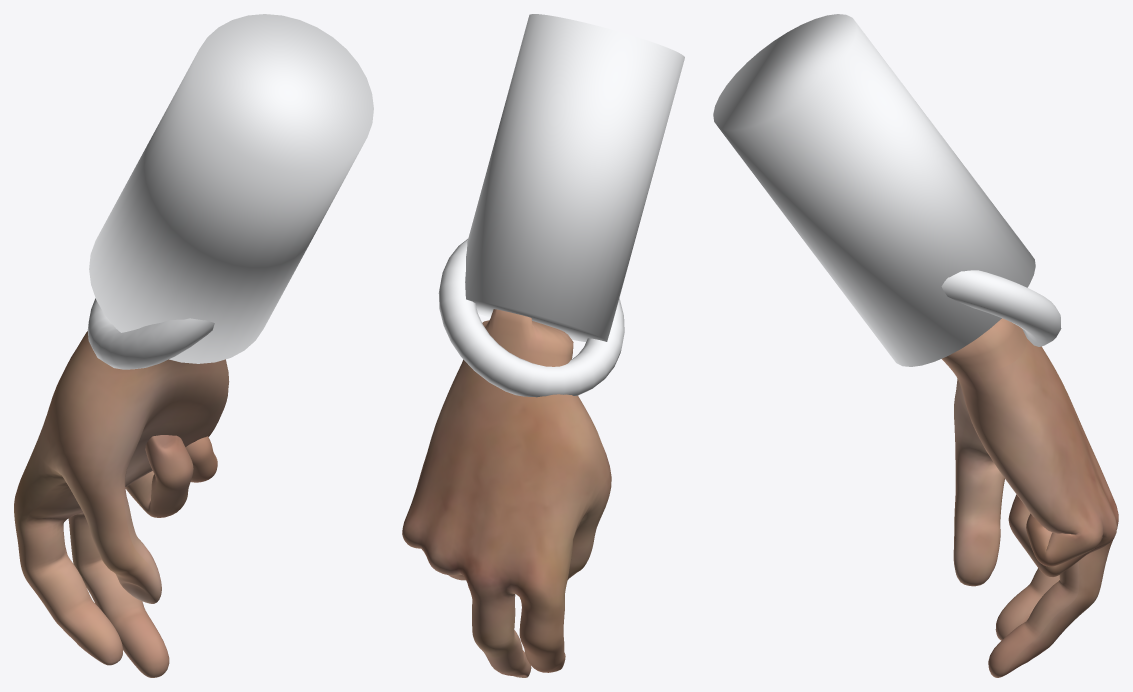
Rendered from hand_grip_disc.glb.
The picture shows the model from 3 angles, left to right: view 1: azimuth 30°, elevation 25°; view 2: azimuth 150°, elevation 25°; view 3: azimuth 270°, elevation 25°; orthographic projection. The views are drawn at different scales.
Visible parts, largest first — view 1: sleeve, hand, cuff; view 2: sleeve, hand, cuff; view 3: sleeve, hand, cuff.
Boxes of the visible parts, left/top/right/bottom form: sleeve: left=89, top=14, right=373, bottom=363; hand: left=14, top=331, right=229, bottom=677; cuff: left=87, top=298, right=214, bottom=369; sleeve: left=465, top=14, right=684, bottom=342; hand: left=402, top=309, right=611, bottom=677; cuff: left=438, top=239, right=624, bottom=397; sleeve: left=713, top=14, right=1035, bottom=366; hand: left=942, top=318, right=1118, bottom=677; cuff: left=941, top=270, right=1061, bottom=346.
Size of the model in its own units: 0.0822 by 0.2939 by 0.1654.
2 materials, 1 textured.
